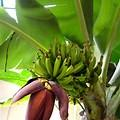banana: (32, 45, 86, 91)
